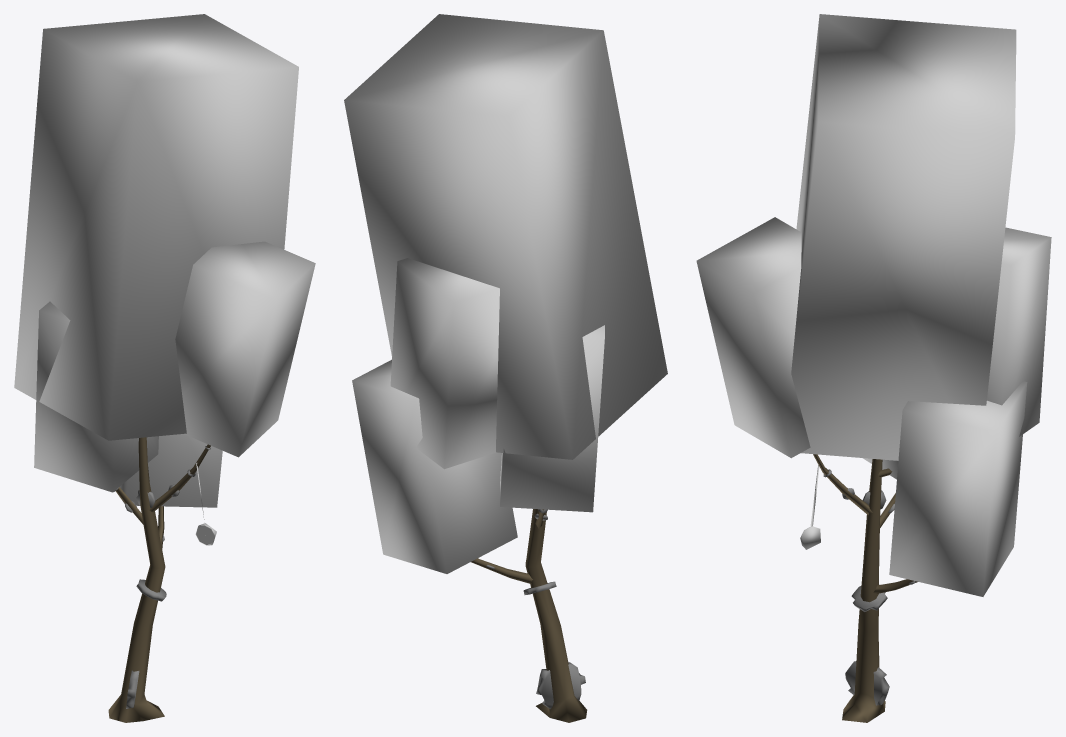
Rendered from sm_tree_clockwork_03_LOD3.fbx.
3 views of the same model, side by side, from view 1: azimuth 30°, elevation 25°; view 2: azimuth 150°, elevation 25°; view 3: azimuth 270°, elevation 25° (orthographic). The views are drawn at different scales.
Parts seen in each view (by area): view 1: sm_tree_clockwork_03_LOD3; view 2: sm_tree_clockwork_03_LOD3; view 3: sm_tree_clockwork_03_LOD3.
Part boxes in pixels (box(x1,y1,x2,y2)): sm_tree_clockwork_03_LOD3: box(14, 14, 315, 722); sm_tree_clockwork_03_LOD3: box(344, 14, 667, 722); sm_tree_clockwork_03_LOD3: box(696, 14, 1051, 722).
Bounding box in the file's own units: 5.19 × 7.19 × 15.33.
